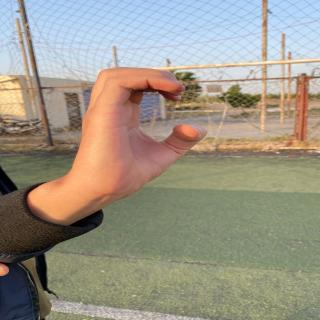JEEM: (52, 54, 247, 200)
